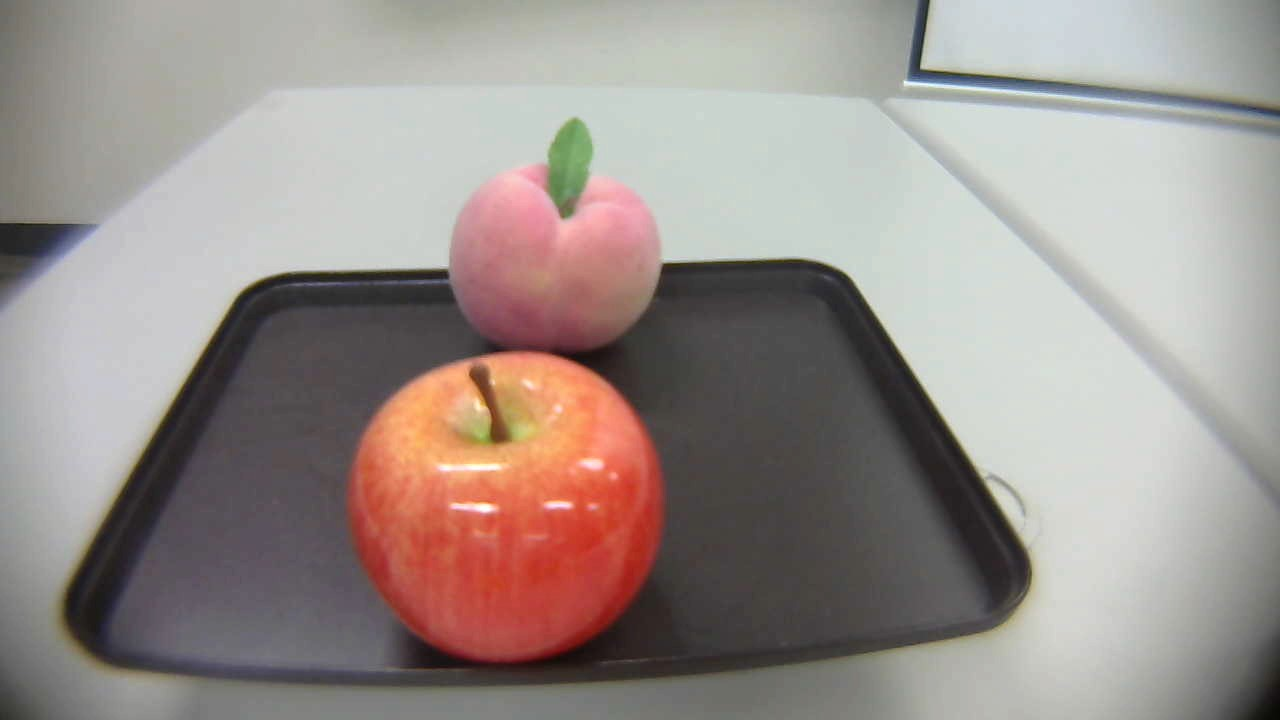peach: (423, 108, 673, 368)
red apple: (334, 347, 662, 661)
